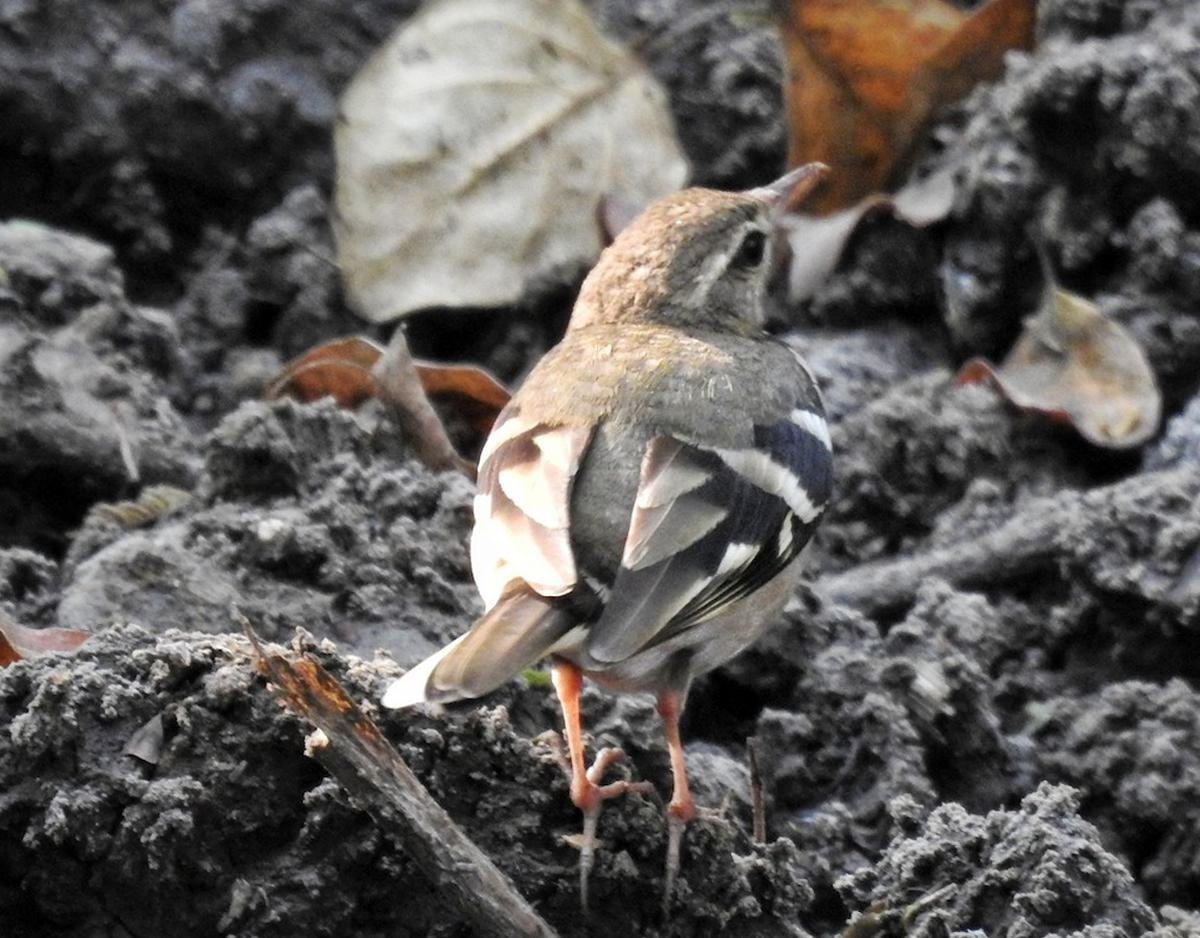wagtail: (410, 138, 874, 726)
